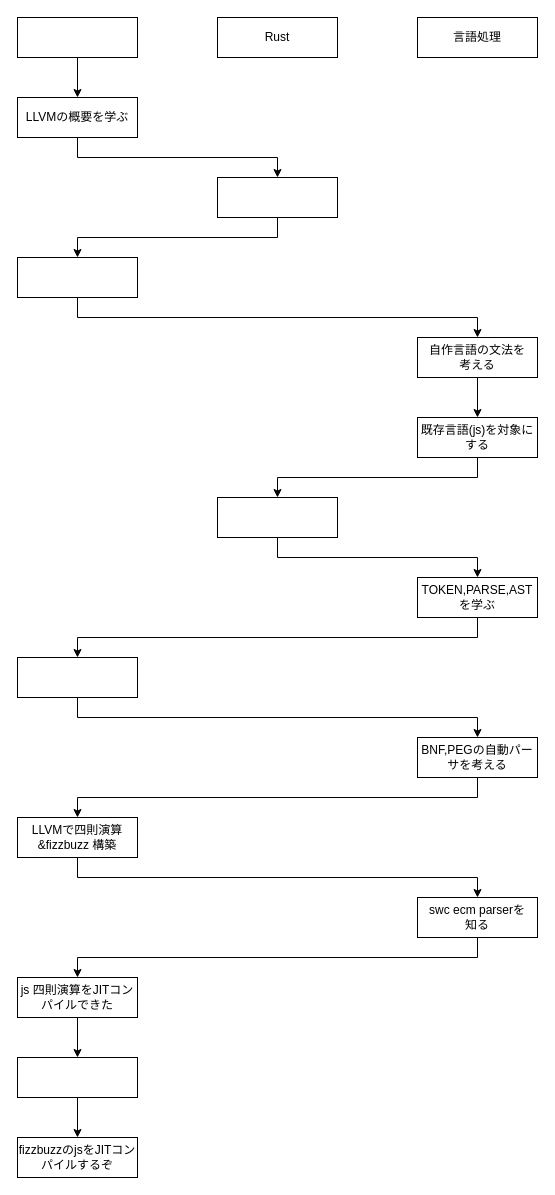
Image size: 555x1195. Some labels were removed from this diagram. The centre of each missing label's shape, as x and y in pixels:
alloca,phiなど知らない機能を知る: pixel 77 1077
LLVM: pixel 77 37
LLVMの基礎を学ぶ: pixel 77 677
Rustの万華鏡を学ぶ: pixel 77 277
Rust環境構築: pixel 277 197
チュートリアルを 実施する: pixel 277 517
